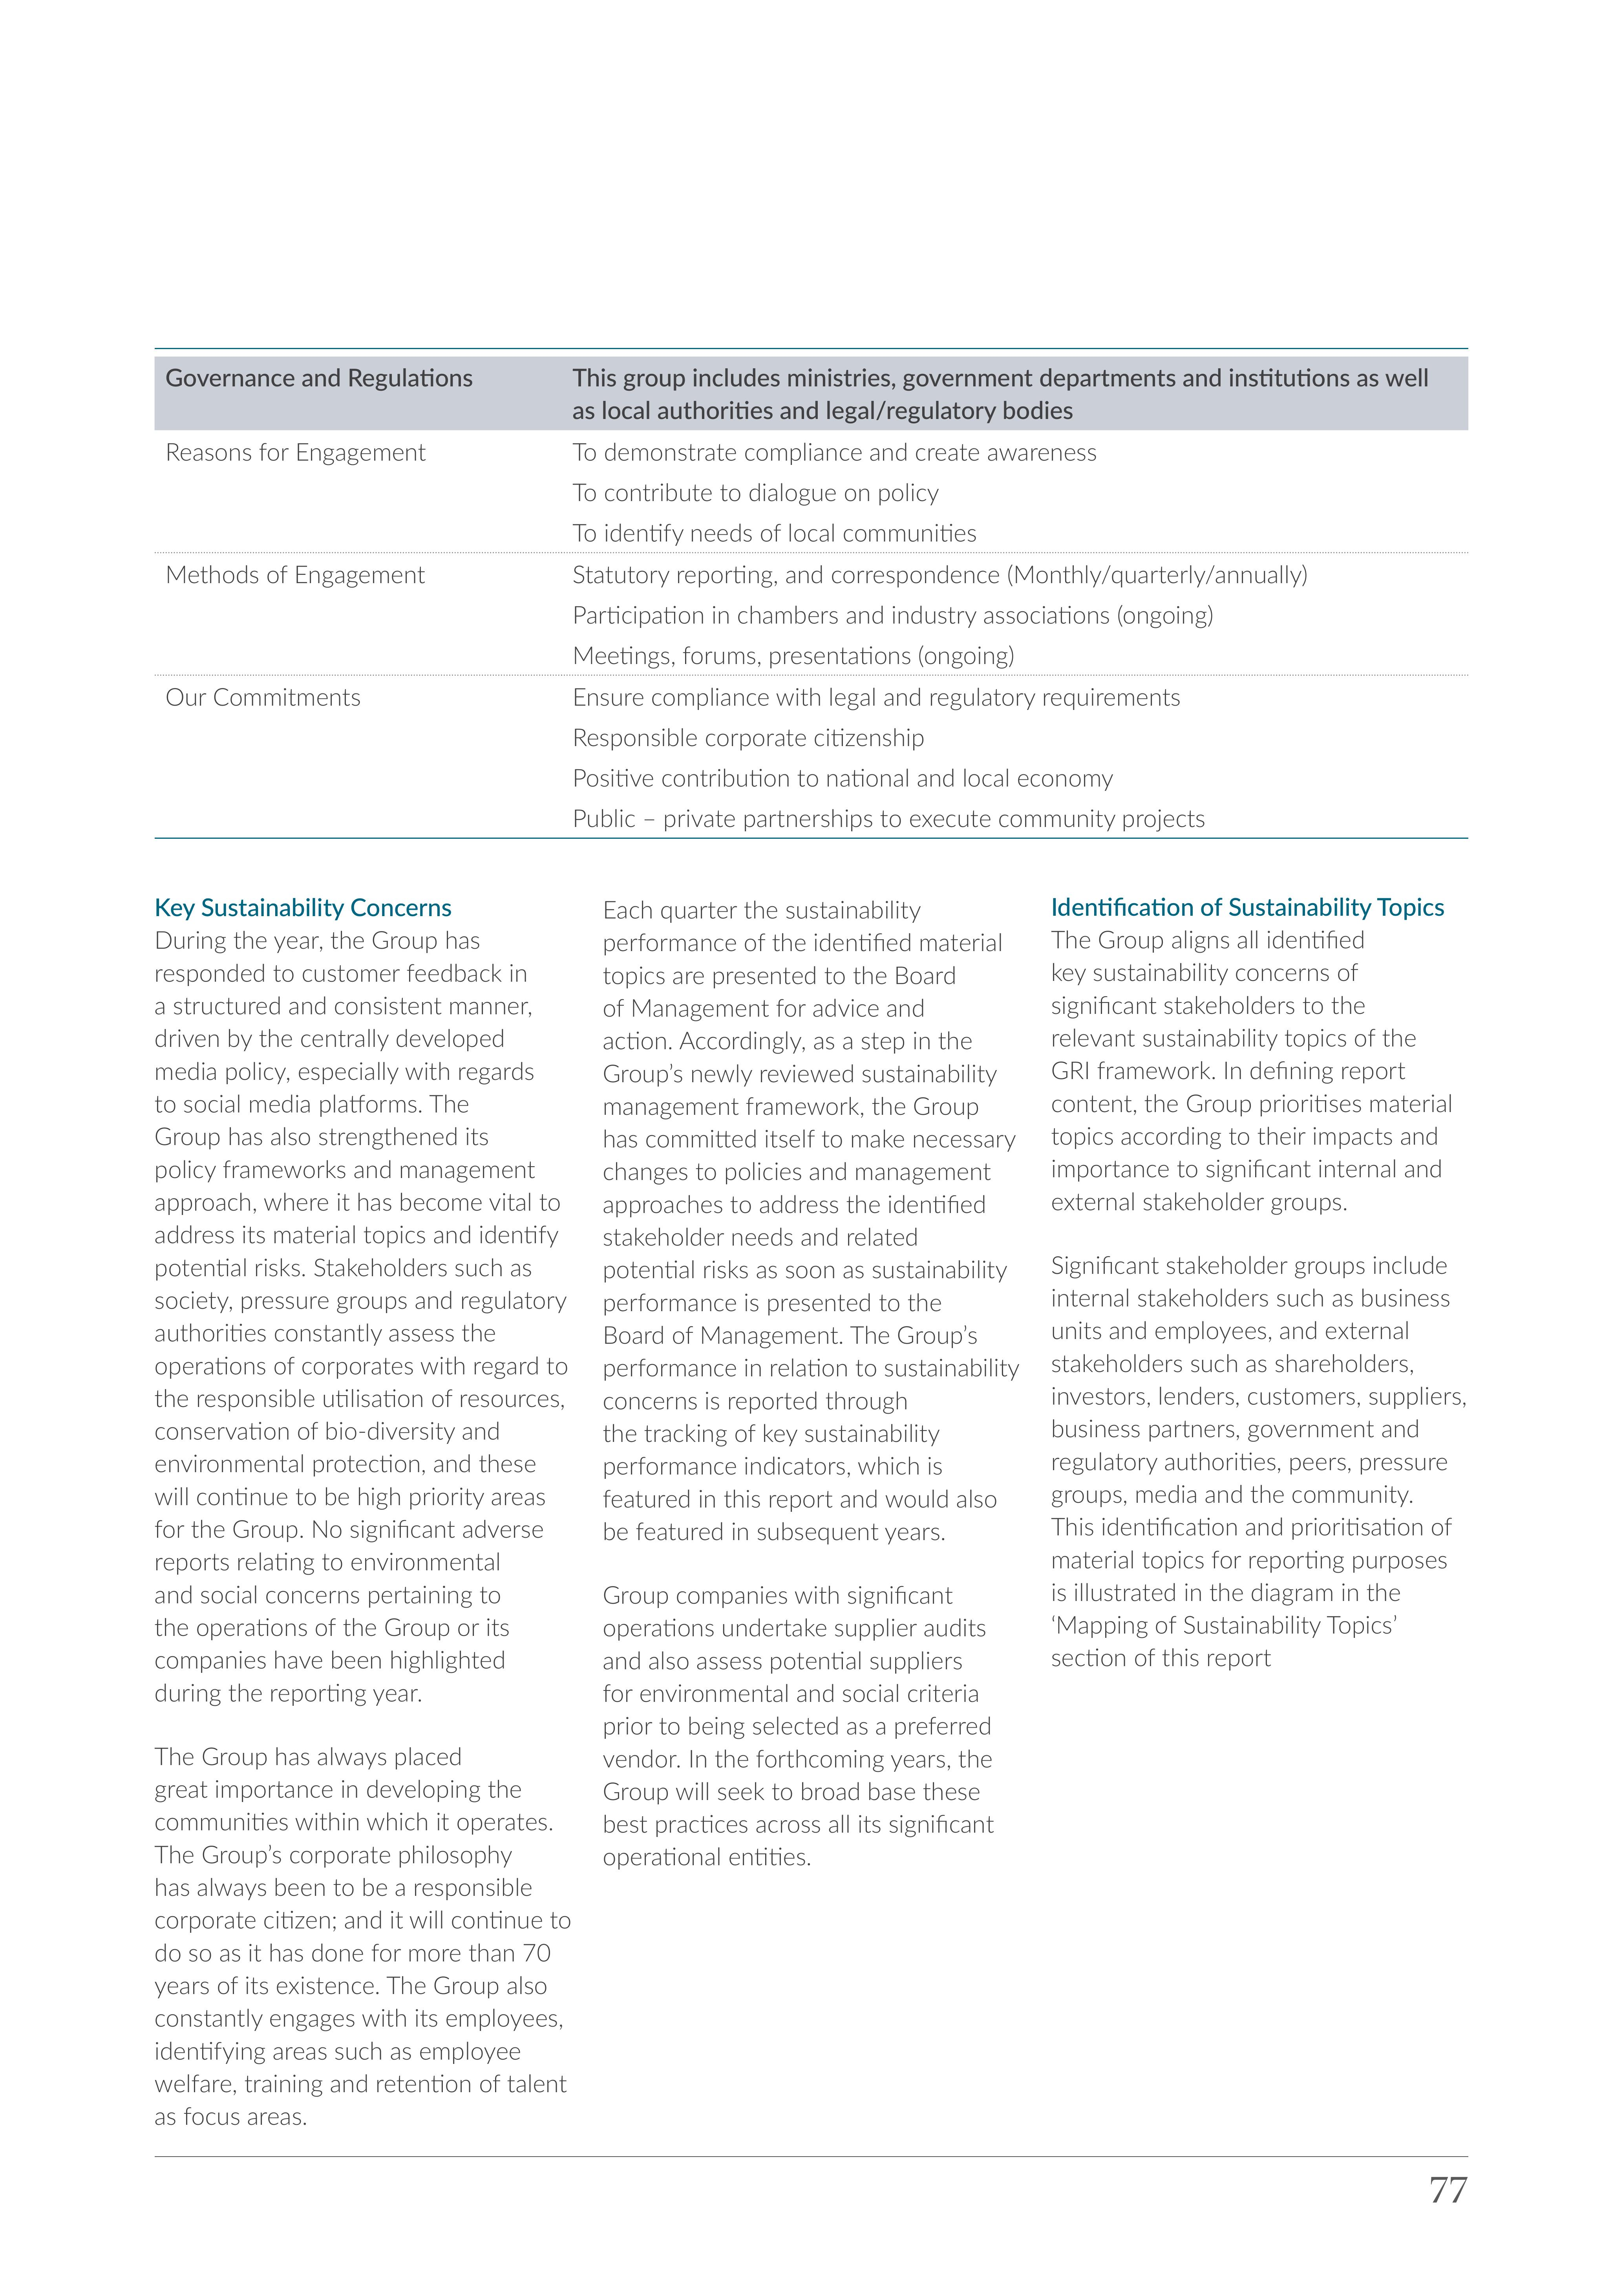table: (141, 336, 1481, 2159)
